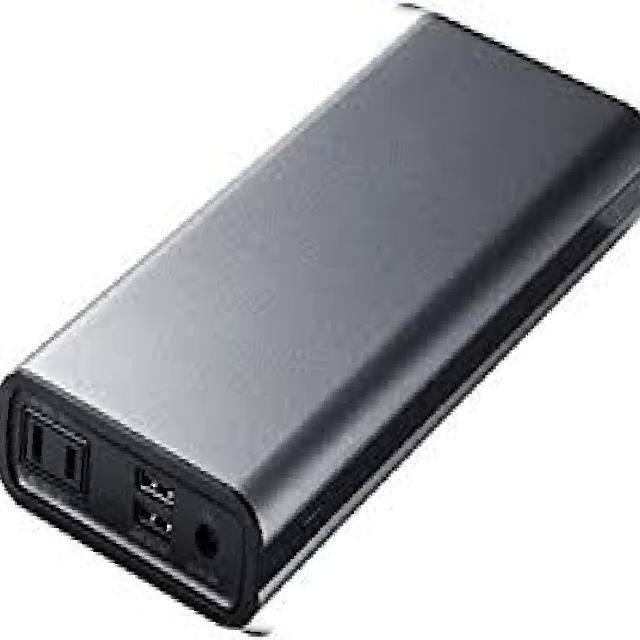Battery: (3, 2, 640, 640)
